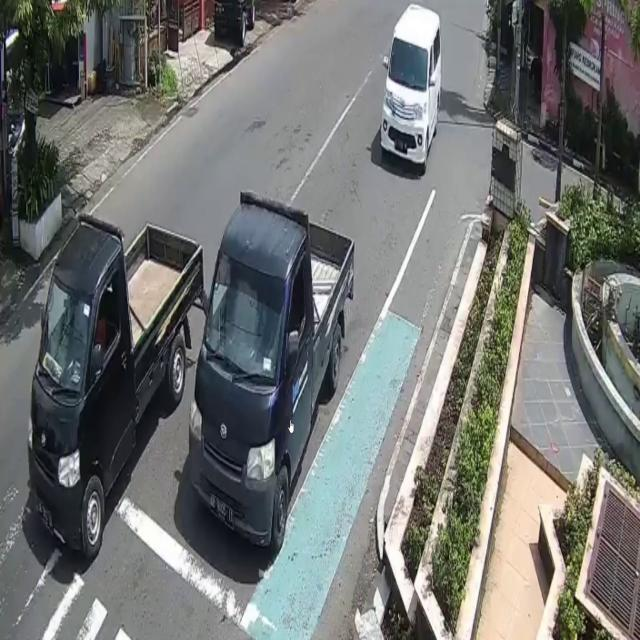car: (28, 213, 205, 566), (190, 190, 355, 554), (378, 4, 442, 173)
